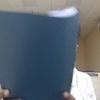notebook: (0, 6, 81, 99)
